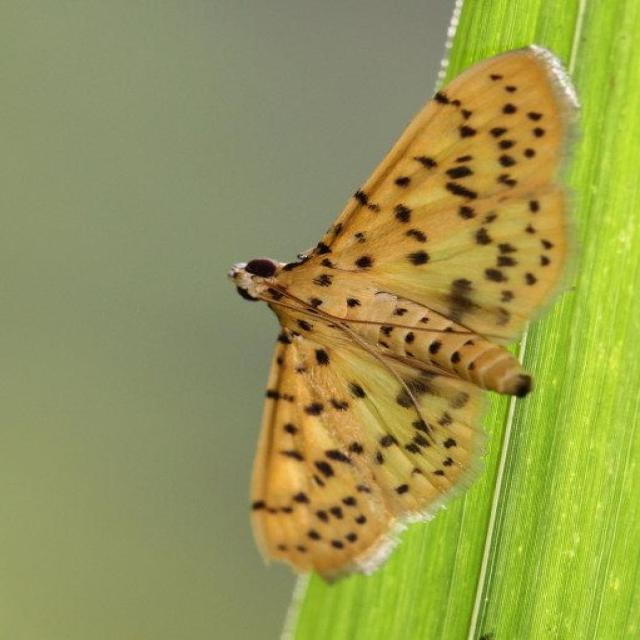peach borer: (214, 43, 590, 607)
